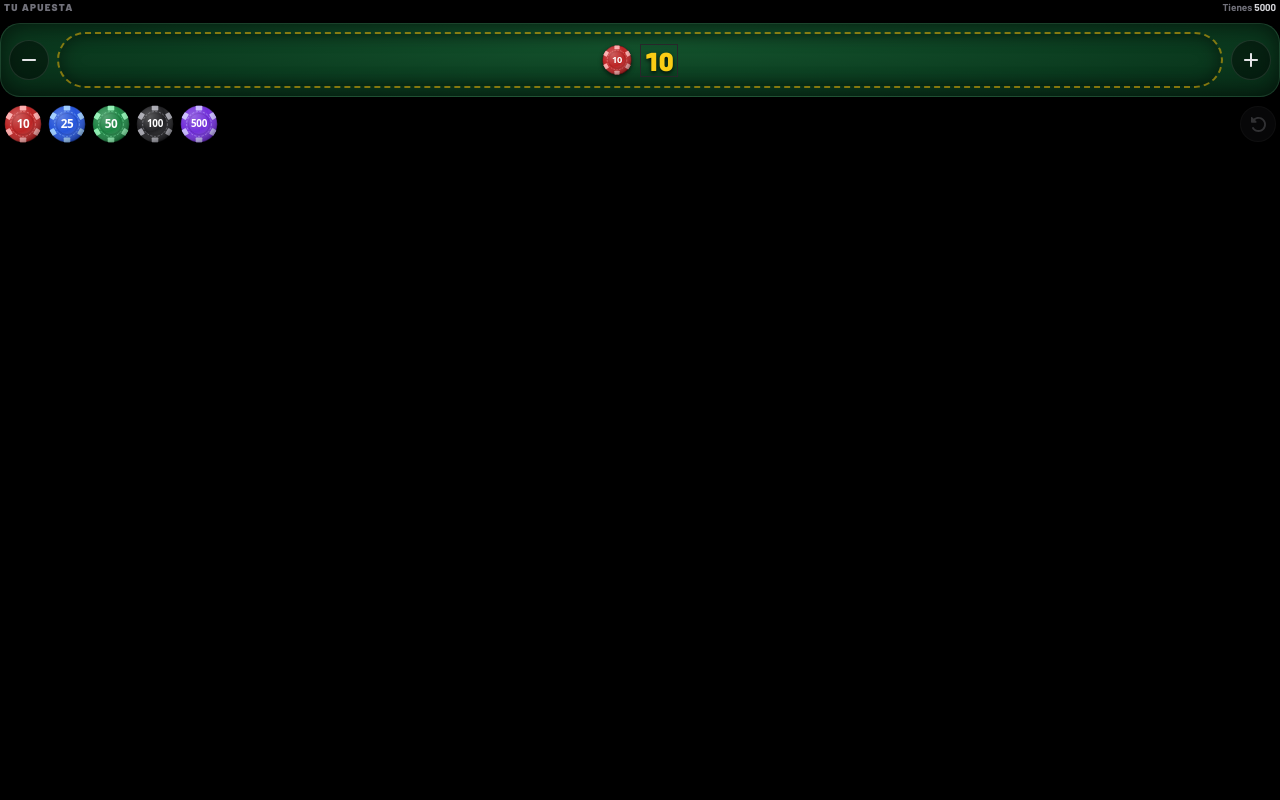
Test: SelectorApuesta › y al salir del campo, un numero demasiado bajo sube al minimo
Step 1. Click the field named "Cantidad apostada" → (659, 60), box 640,44 -> 678,76
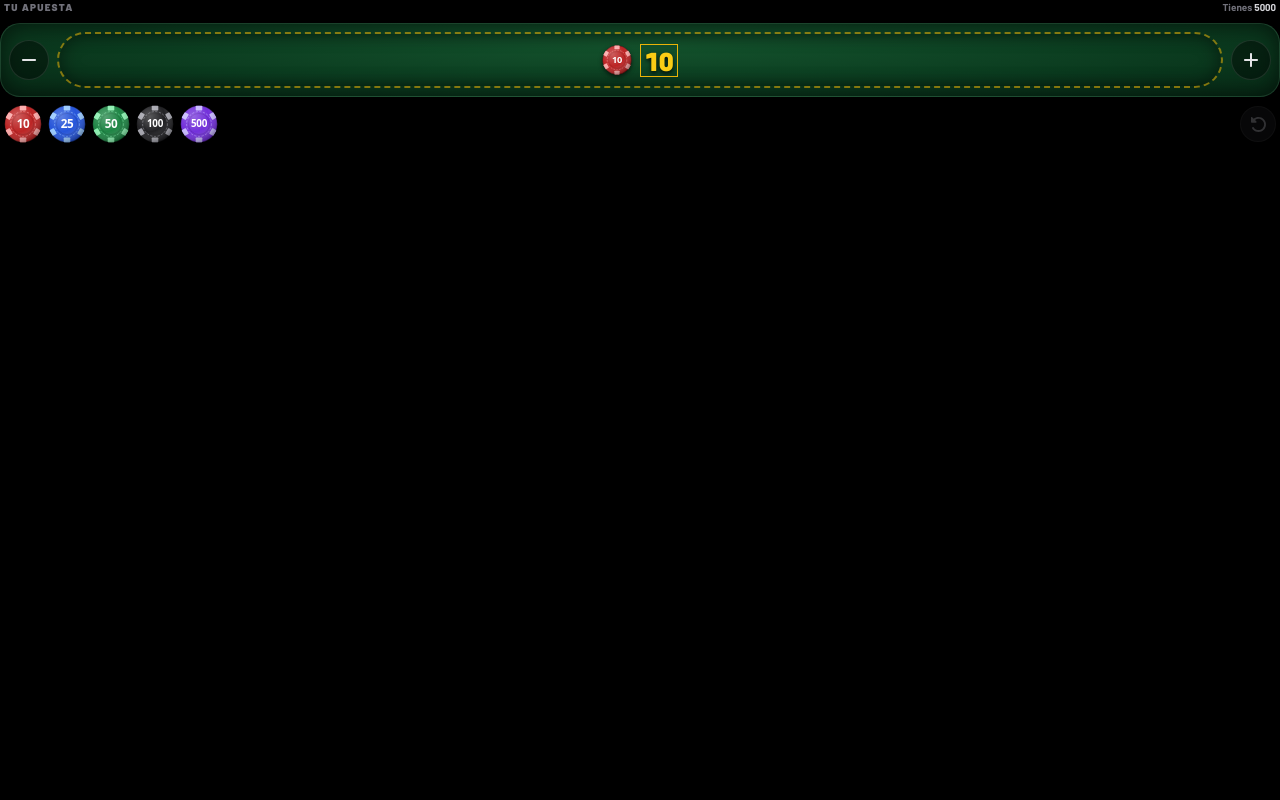
Step 2. Type keys "3"
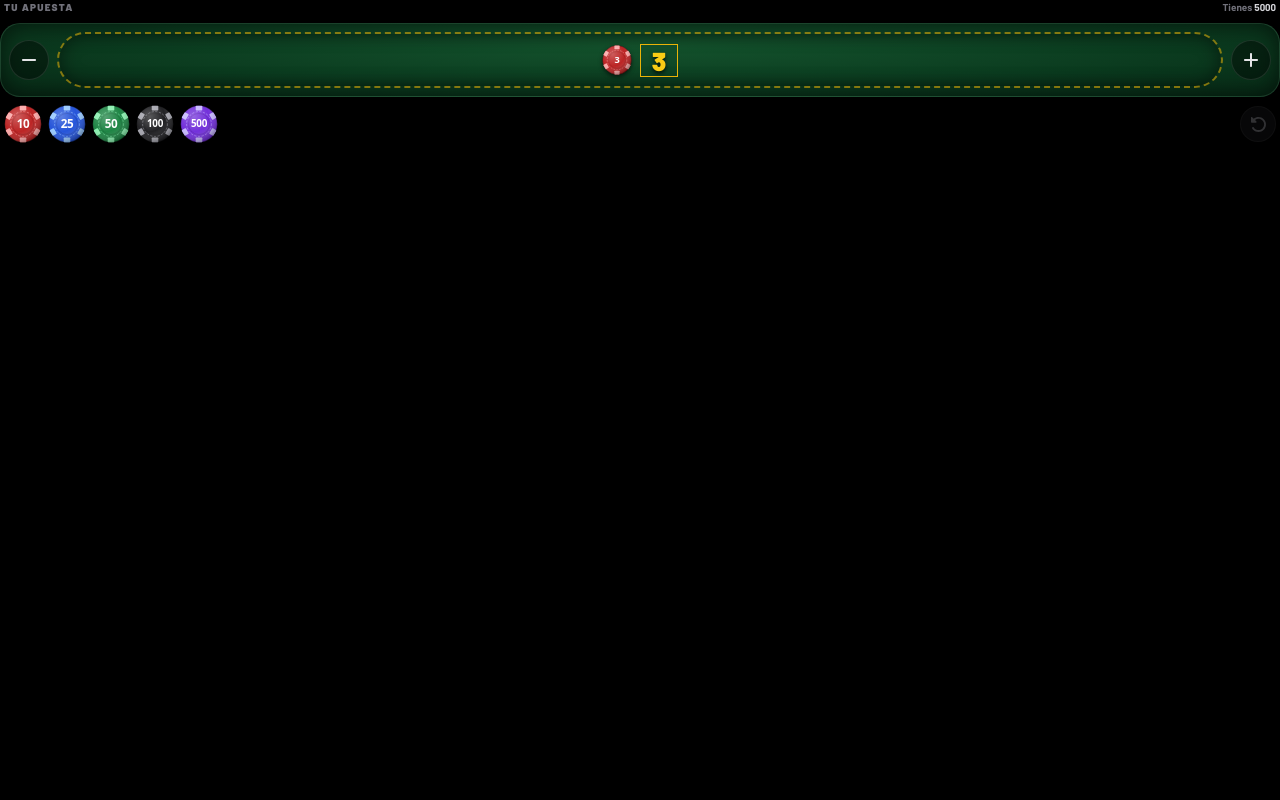
Step 3. Press Tab
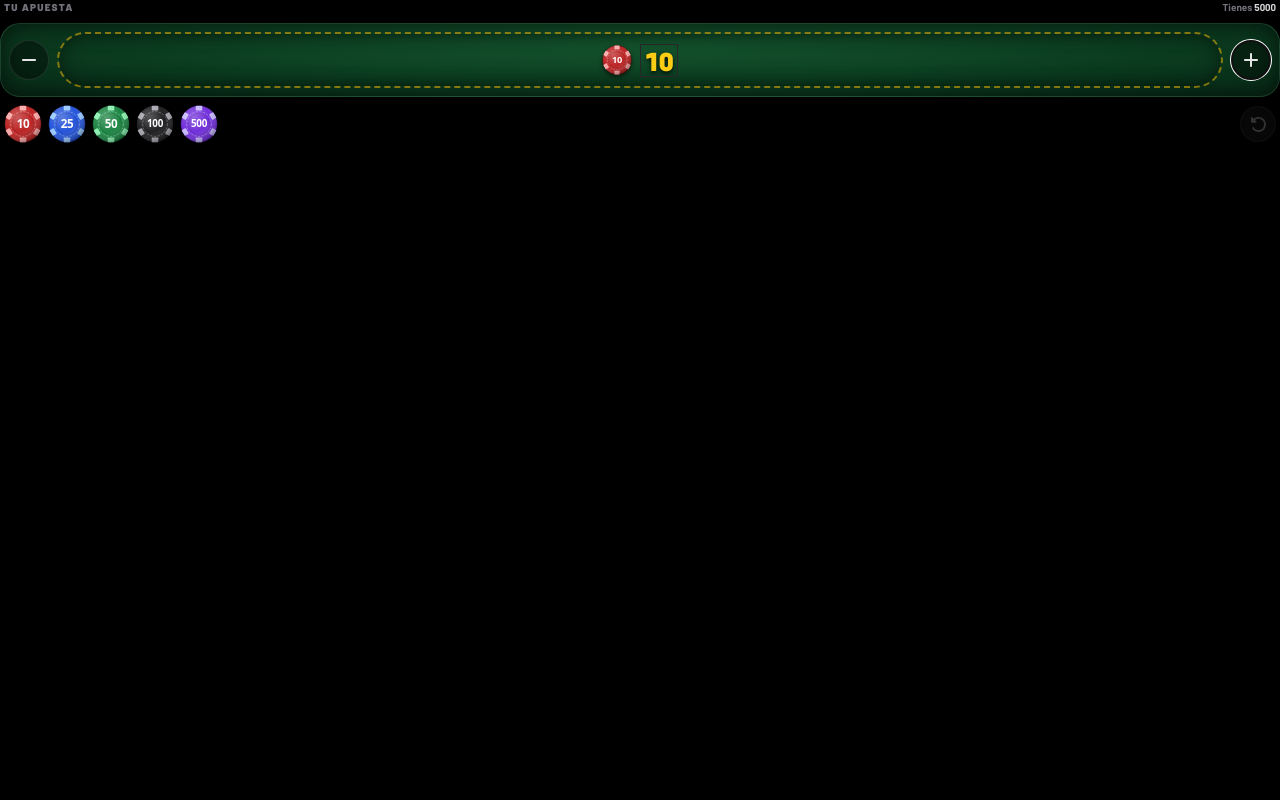
Now the field named "Cantidad apostada" holds "10", box 640,44 -> 678,76
